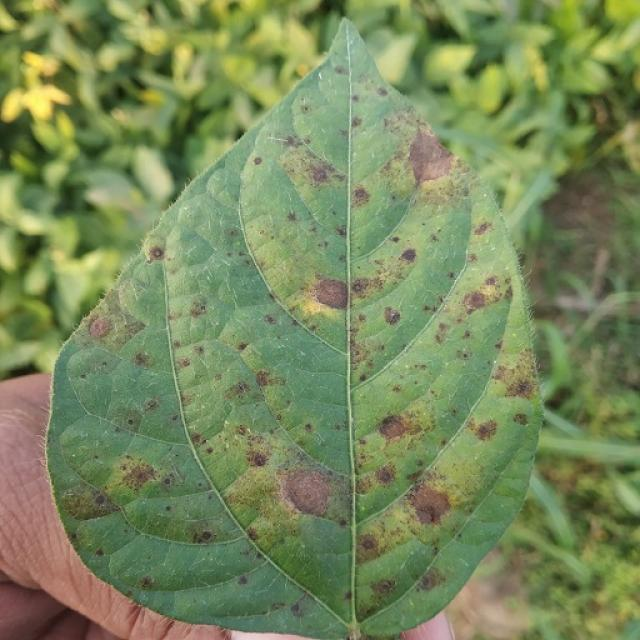Anthracnose: (405, 124, 455, 183), (284, 467, 333, 524), (409, 485, 453, 525), (313, 277, 350, 309), (121, 461, 158, 490), (377, 414, 414, 441), (89, 316, 113, 341), (417, 568, 443, 591), (472, 419, 498, 441), (463, 290, 488, 312), (370, 579, 394, 597), (375, 465, 395, 485), (255, 369, 275, 388), (311, 165, 330, 183), (512, 379, 532, 396), (147, 244, 166, 261), (352, 187, 369, 204), (189, 300, 207, 316), (473, 221, 492, 236), (250, 452, 267, 467), (283, 135, 301, 149), (385, 308, 400, 324), (134, 351, 149, 367), (399, 248, 416, 262), (512, 412, 529, 426), (360, 537, 376, 551), (144, 399, 159, 412), (139, 576, 154, 589), (247, 528, 259, 541), (290, 601, 301, 615), (264, 314, 277, 325), (200, 530, 212, 541), (94, 494, 106, 505), (236, 574, 248, 585), (351, 116, 362, 128), (485, 276, 498, 286), (286, 211, 297, 222), (300, 102, 311, 113), (376, 86, 388, 96), (94, 547, 104, 557), (253, 156, 263, 165), (343, 590, 352, 600), (126, 418, 135, 425), (165, 504, 172, 511)
Blackgram: (46, 20, 540, 639)
